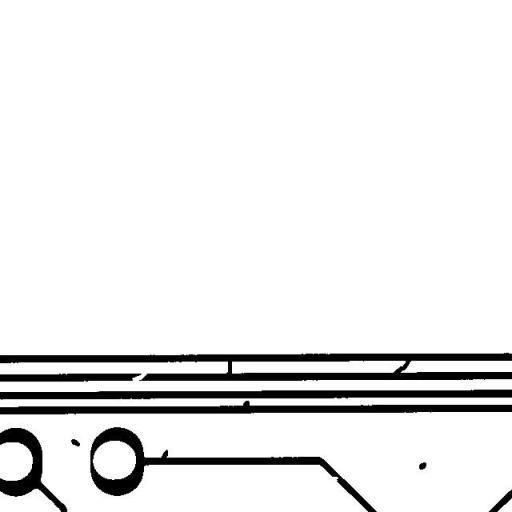copper: (63, 431, 87, 454), (411, 454, 434, 477)
mousebite: (324, 469, 346, 489)
open: (124, 362, 158, 390)
short: (386, 348, 418, 382), (218, 350, 239, 386)
spur: (234, 393, 256, 416), (154, 442, 175, 466)
